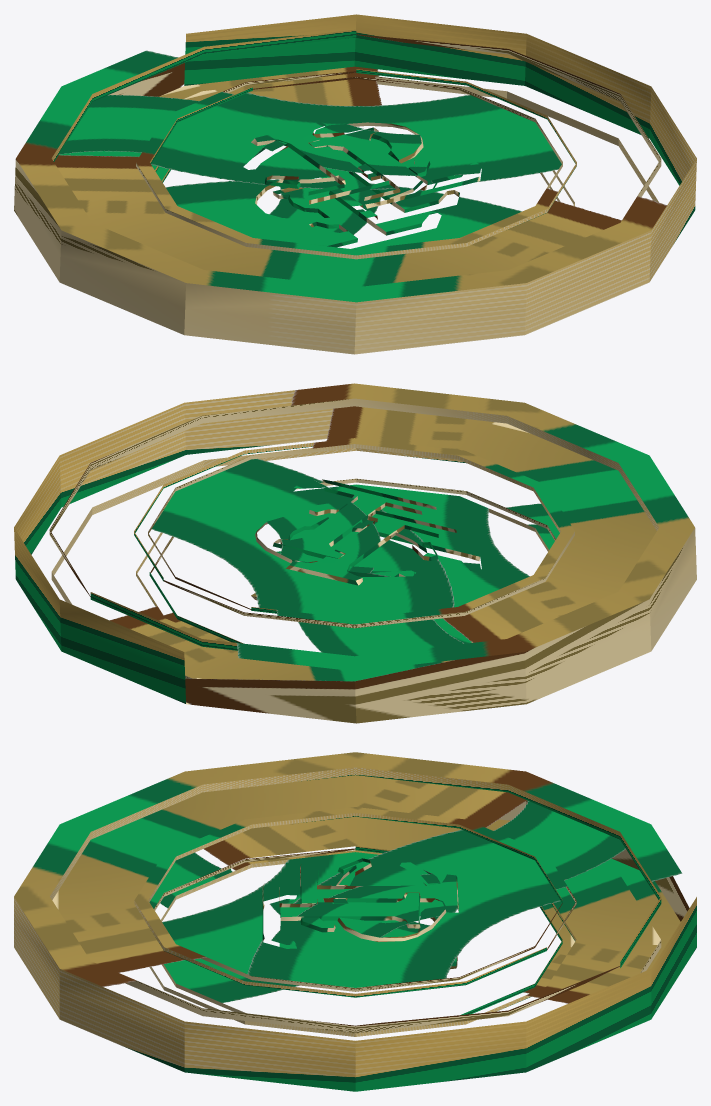
The model's file is SM_Trinket_PPCToken.fbx.
The picture shows the model from 3 angles, top to bottom: view 1: azimuth 30°, elevation 25°; view 2: azimuth 150°, elevation 25°; view 3: azimuth 270°, elevation 25°; orthographic projection.
Visible parts, largest first — view 1: SM_Trinket_PPCToken; view 2: SM_Trinket_PPCToken; view 3: SM_Trinket_PPCToken.
Boxes of the visible parts, bbox=[...] form: SM_Trinket_PPCToken: bbox=[14, 14, 696, 354]; SM_Trinket_PPCToken: bbox=[14, 383, 696, 723]; SM_Trinket_PPCToken: bbox=[14, 752, 696, 1091].
Size of the model in its own units: 0.0427 by 0.0426 by 0.00357.
